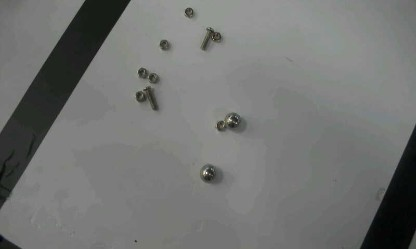ironball: (199, 163, 215, 182), (224, 111, 240, 127)
